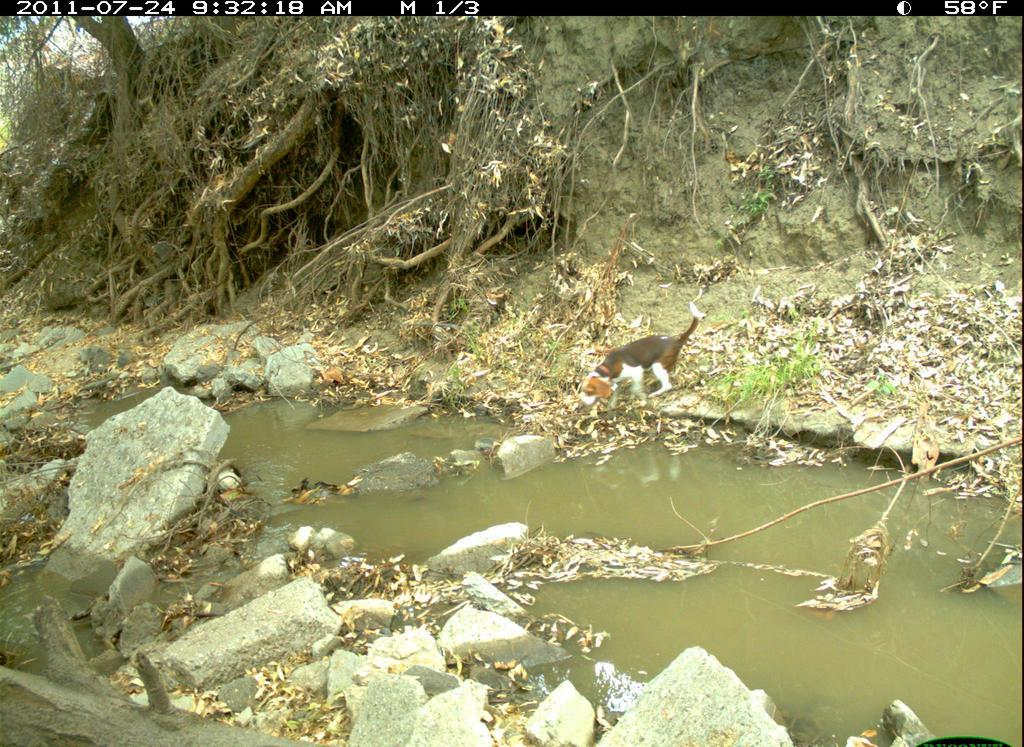dog: (570, 296, 716, 418)
